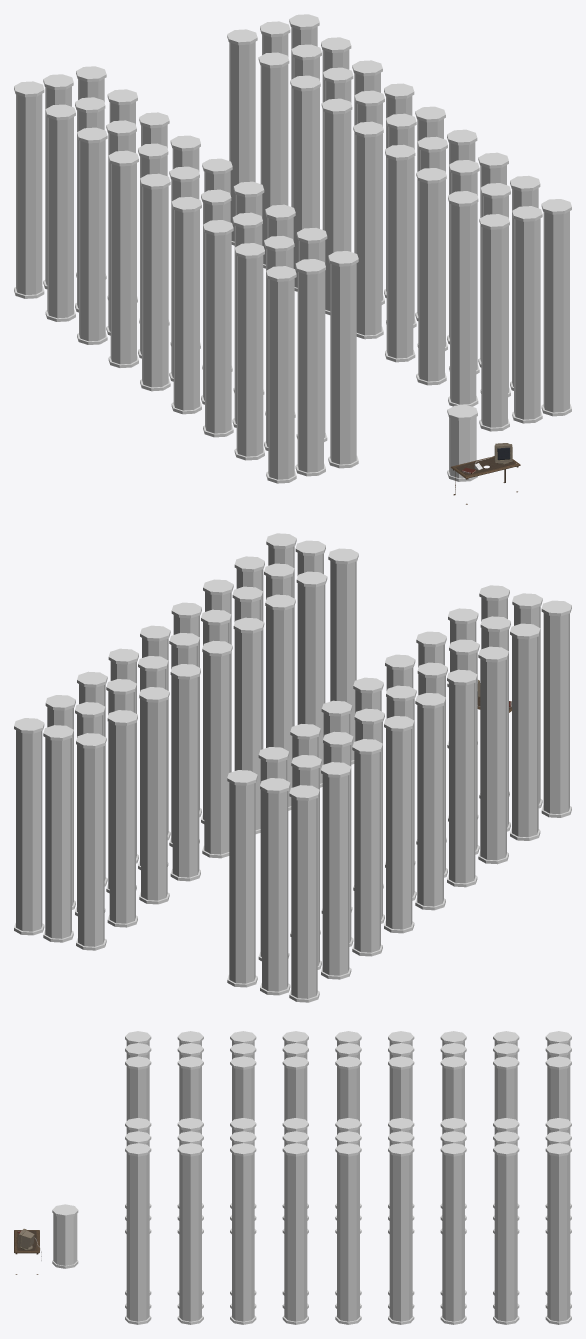
File: PrVrij1_Desk.fbx
3 renders of one model, top to bottom at view 1: azimuth 30°, elevation 25°; view 2: azimuth 150°, elevation 25°; view 3: azimuth 270°, elevation 25°, orthographic. The views are drawn at different scales.
Visible parts, largest first — view 1: Cylinder.001, Cylinder, Desk; view 2: Cylinder.001; view 3: Cylinder.001, Cylinder.
Boxes of the visible parts, left/top/right/bottom form: Cylinder.001: left=14, top=14, right=571, bottom=483; Cylinder: left=447, top=405, right=477, bottom=481; Desk: left=450, top=456, right=520, bottom=504; Cylinder.001: left=14, top=533, right=571, bottom=1002; Cylinder.001: left=125, top=1031, right=571, bottom=1324; Cylinder: left=52, top=1204, right=78, bottom=1268.
Bounding box in the file's own units: 3605 × 2342 × 6902.
